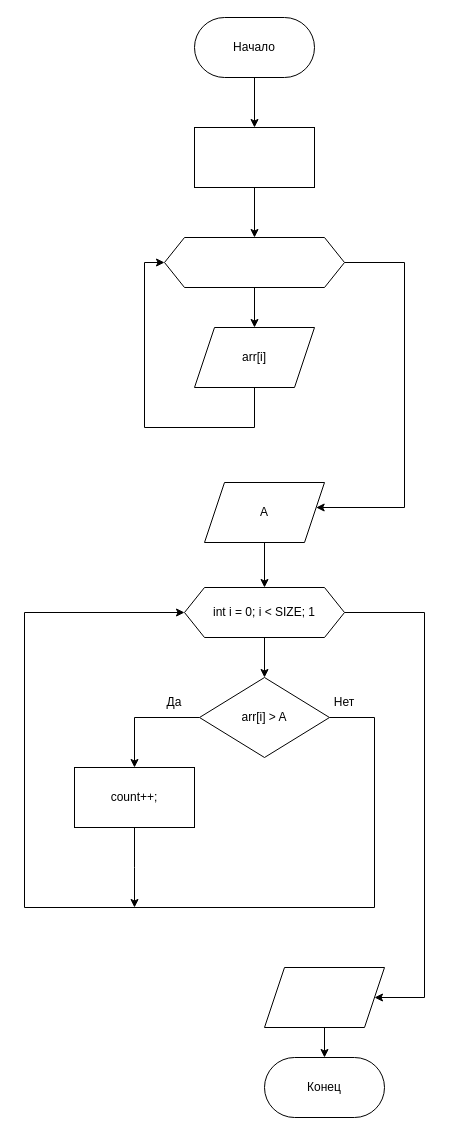
This 450x1135 diagram has some shape labels left out. Here are the shapes that lost their labels. From the top down, the centre of each, then its label:
At [254,157]: "int A, count = 0; int arr[SIZE];".
At [254,262]: "int i = 0;i < SIZE; 1".
At [324,997]: "count".
